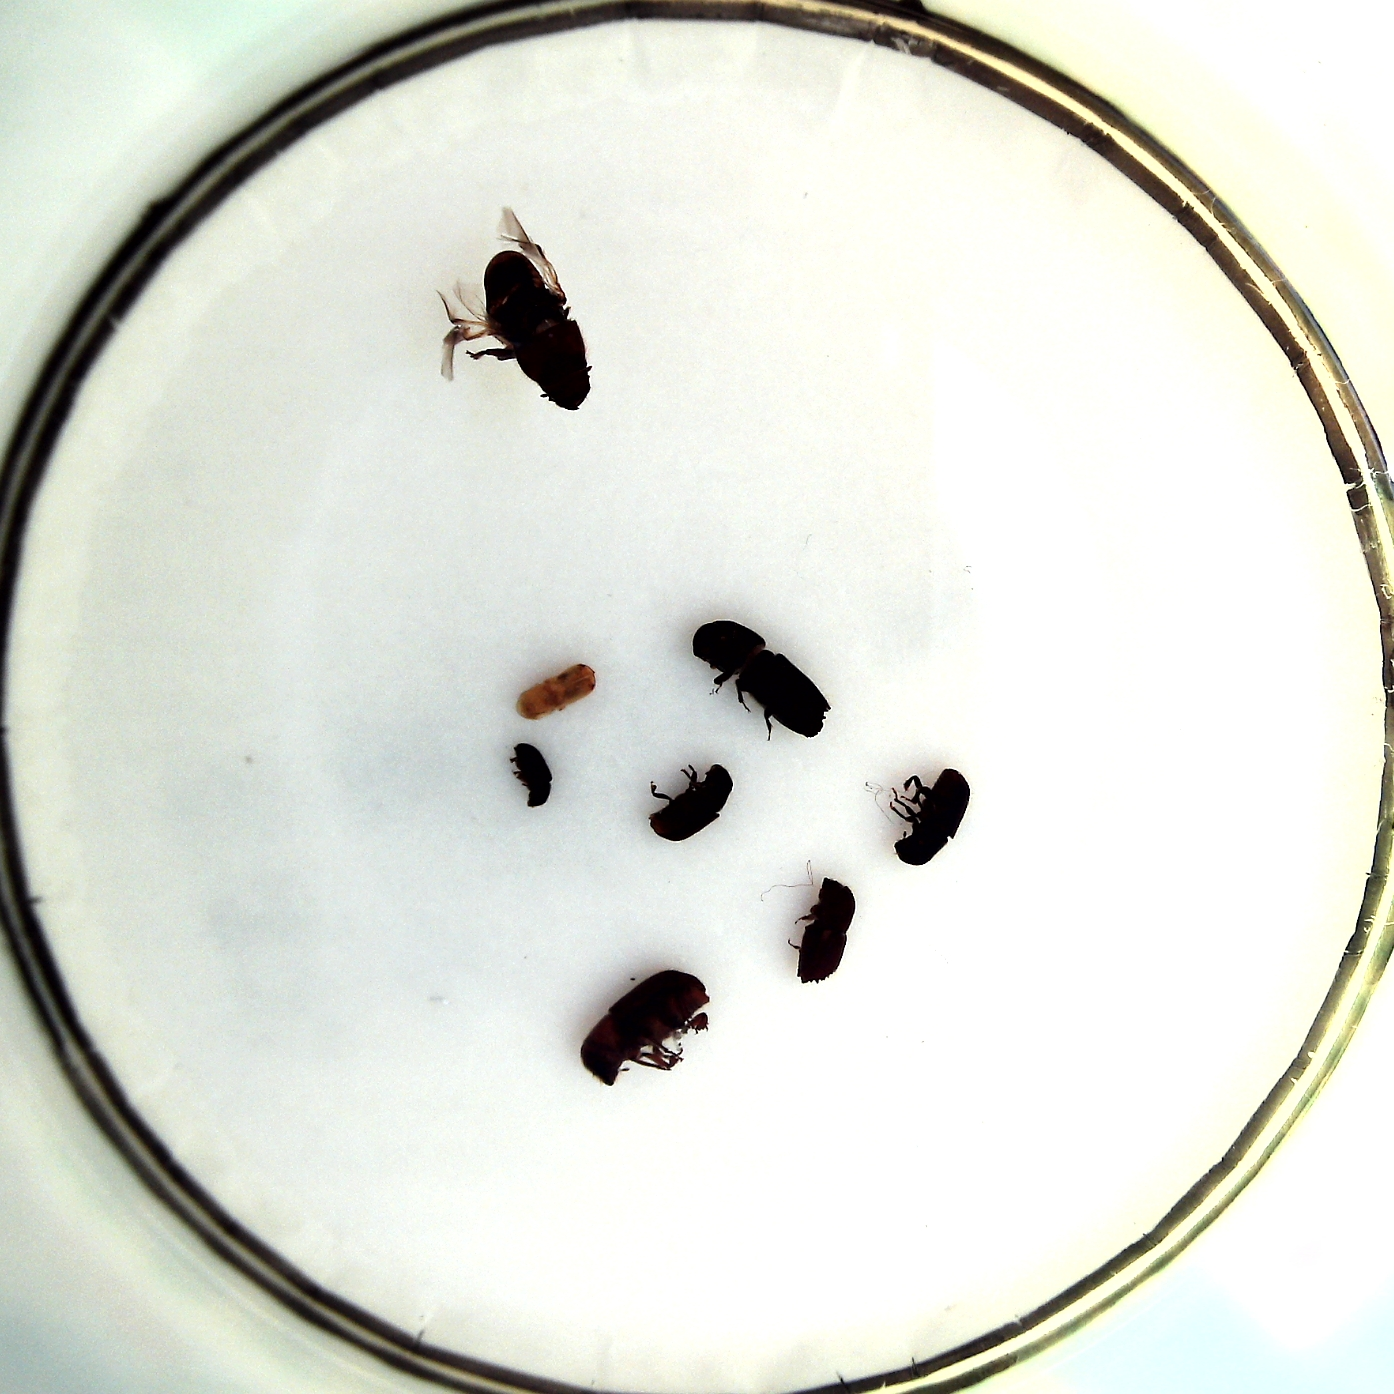Boerner: (694, 619, 831, 746)
Leconte: (483, 249, 591, 412), (582, 970, 711, 1086)
acuminatus: (508, 740, 551, 807)
armandi: (891, 767, 970, 866), (648, 761, 733, 840)
coleoptera: (514, 661, 597, 721)
linnaeus: (788, 877, 855, 986)
